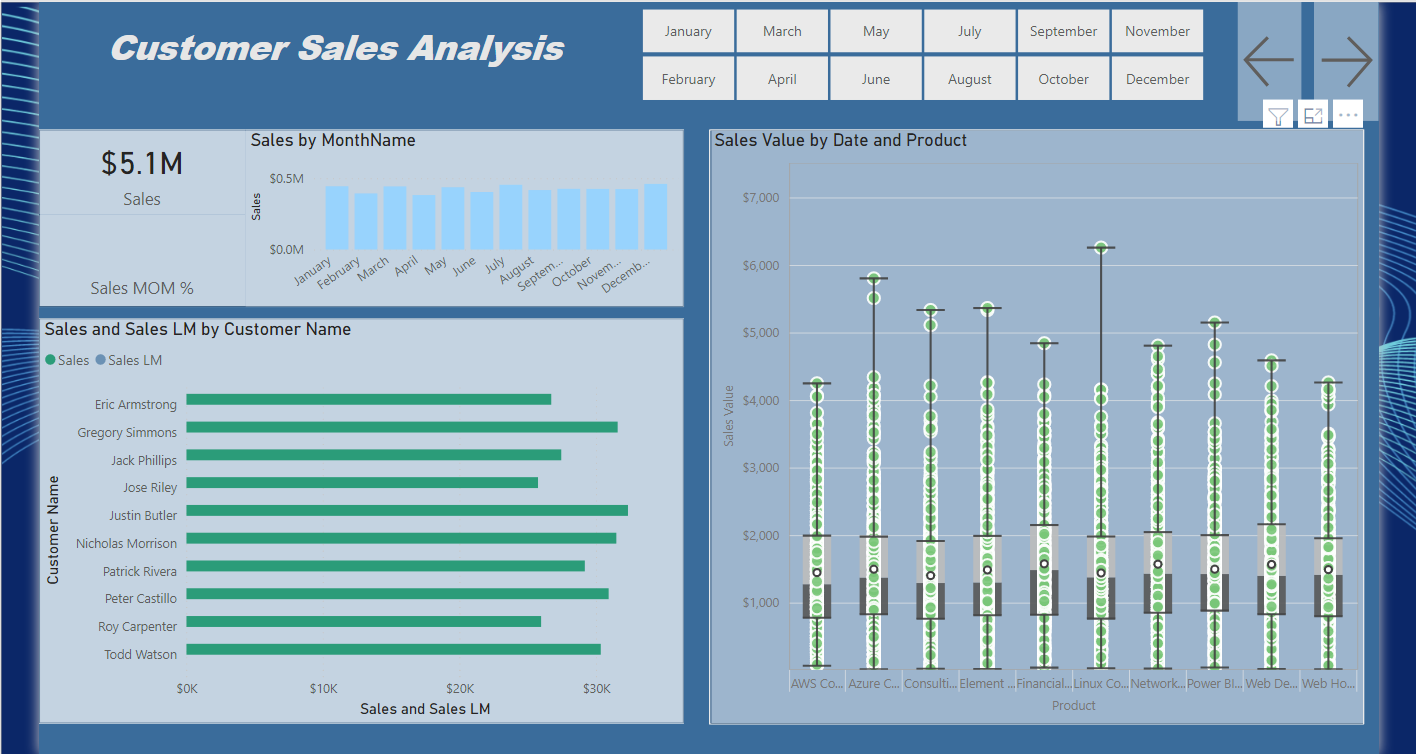

The page's visual inventory and layout, read from the dashboard file:
{"tool":"powerbi","page":{"name":"Page 2","canvas":[1280,720],"ordinal":1},"visuals":[{"type":"shape","box":[641.2,121.8,624.5,568.4],"z":0},{"type":"shape","box":[0,302.1,616.1,386.9],"z":1000},{"type":"shape","box":[0,121.8,616.1,169.6],"z":2000},{"type":"columnChart","fields":{"Category":["Dates.MonthName"],"Y":["Sales.Sales"]},"box":[197,121.8,419.1,169.6],"z":3000},{"type":"card","fields":{"Values":["Sales.Sales"]},"box":[0,121.8,197,81.2],"z":4000},{"type":"card","fields":{"Values":["Sales.sales Df"]},"box":[0,203,197,88.4],"z":5000},{"type":"clusteredBarChart","fields":{"Category":["CustomerSales.Customer Name"],"Y":["Sales.Sales","Sales.Sales LM"]},"box":[0,302.1,616.1,386.9],"z":6000},{"type":"BoxandWhiskerByMAQ1823AD39DT234AB532063E128AX","fields":{"measure":["CustomerSales.Sales Value"],"categoryGroup":["CustomerSales.Product"],"category":["Dates.Date"]},"box":[640,121.8,625.7,568.4],"z":7000},{"type":"textbox","box":[0,15.5,563.6,97.9],"z":8000},{"type":"actionButton","box":[1144.7,0,60.5,113.7],"z":9000},{"type":"actionButton","box":[1217.3,0,61.7,113.7],"z":10000},{"type":"slicer","fields":{"Values":["Dates.MonthName"]},"box":[550.6,0,585.7,100.4],"z":11000}]}

Visuals, with their boxes on the page's 1280x720 design canvas (x1, y1, x2, y2). These are canvas units, not pixel positions in the 1416x754 screenshot, which may show the page scaled, cropped or inside an application window:
shape: <box>641,122,1266,690</box>
shape: <box>0,302,616,689</box>
shape: <box>0,122,616,291</box>
columnChart - Dates.MonthName x Sales.Sales: <box>197,122,616,291</box>
card - Sales.Sales: <box>0,122,197,203</box>
card - Sales.sales Df: <box>0,203,197,291</box>
clusteredBarChart - CustomerSales.Customer Name x Sales.Sales: <box>0,302,616,689</box>
BoxandWhiskerByMAQ1823AD39DT234AB532063E128AX - CustomerSales.Sales Value x CustomerSales.Product: <box>640,122,1266,690</box>
textbox: <box>0,16,564,113</box>
actionButton: <box>1145,0,1205,114</box>
actionButton: <box>1217,0,1279,114</box>
slicer - Dates.MonthName: <box>551,0,1136,100</box>
